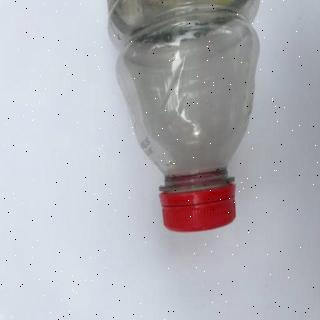Plastic-bottle: (105, 1, 262, 233)
